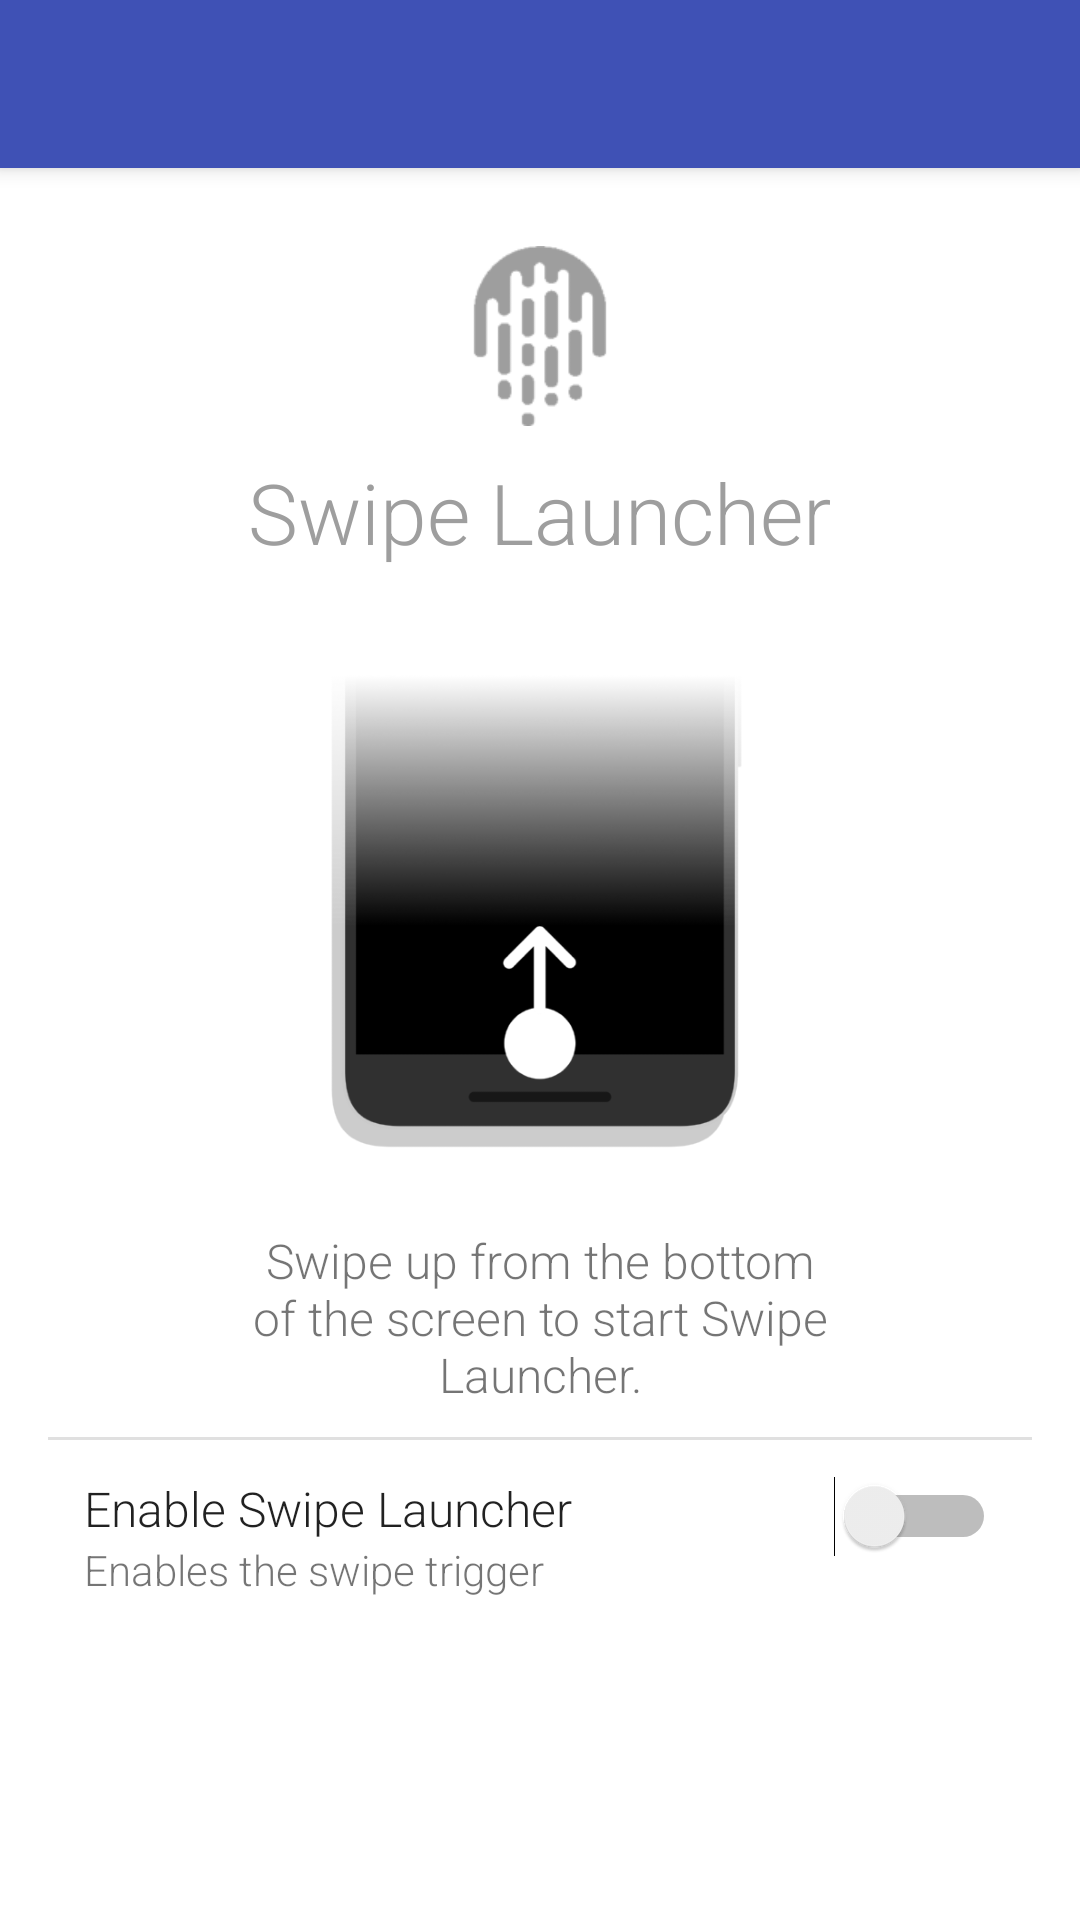

Icon bounding boxes for this 1080px x 1920px phone screenshot, format (x1, y1, x2, y2):
app: (474, 246, 606, 426)
